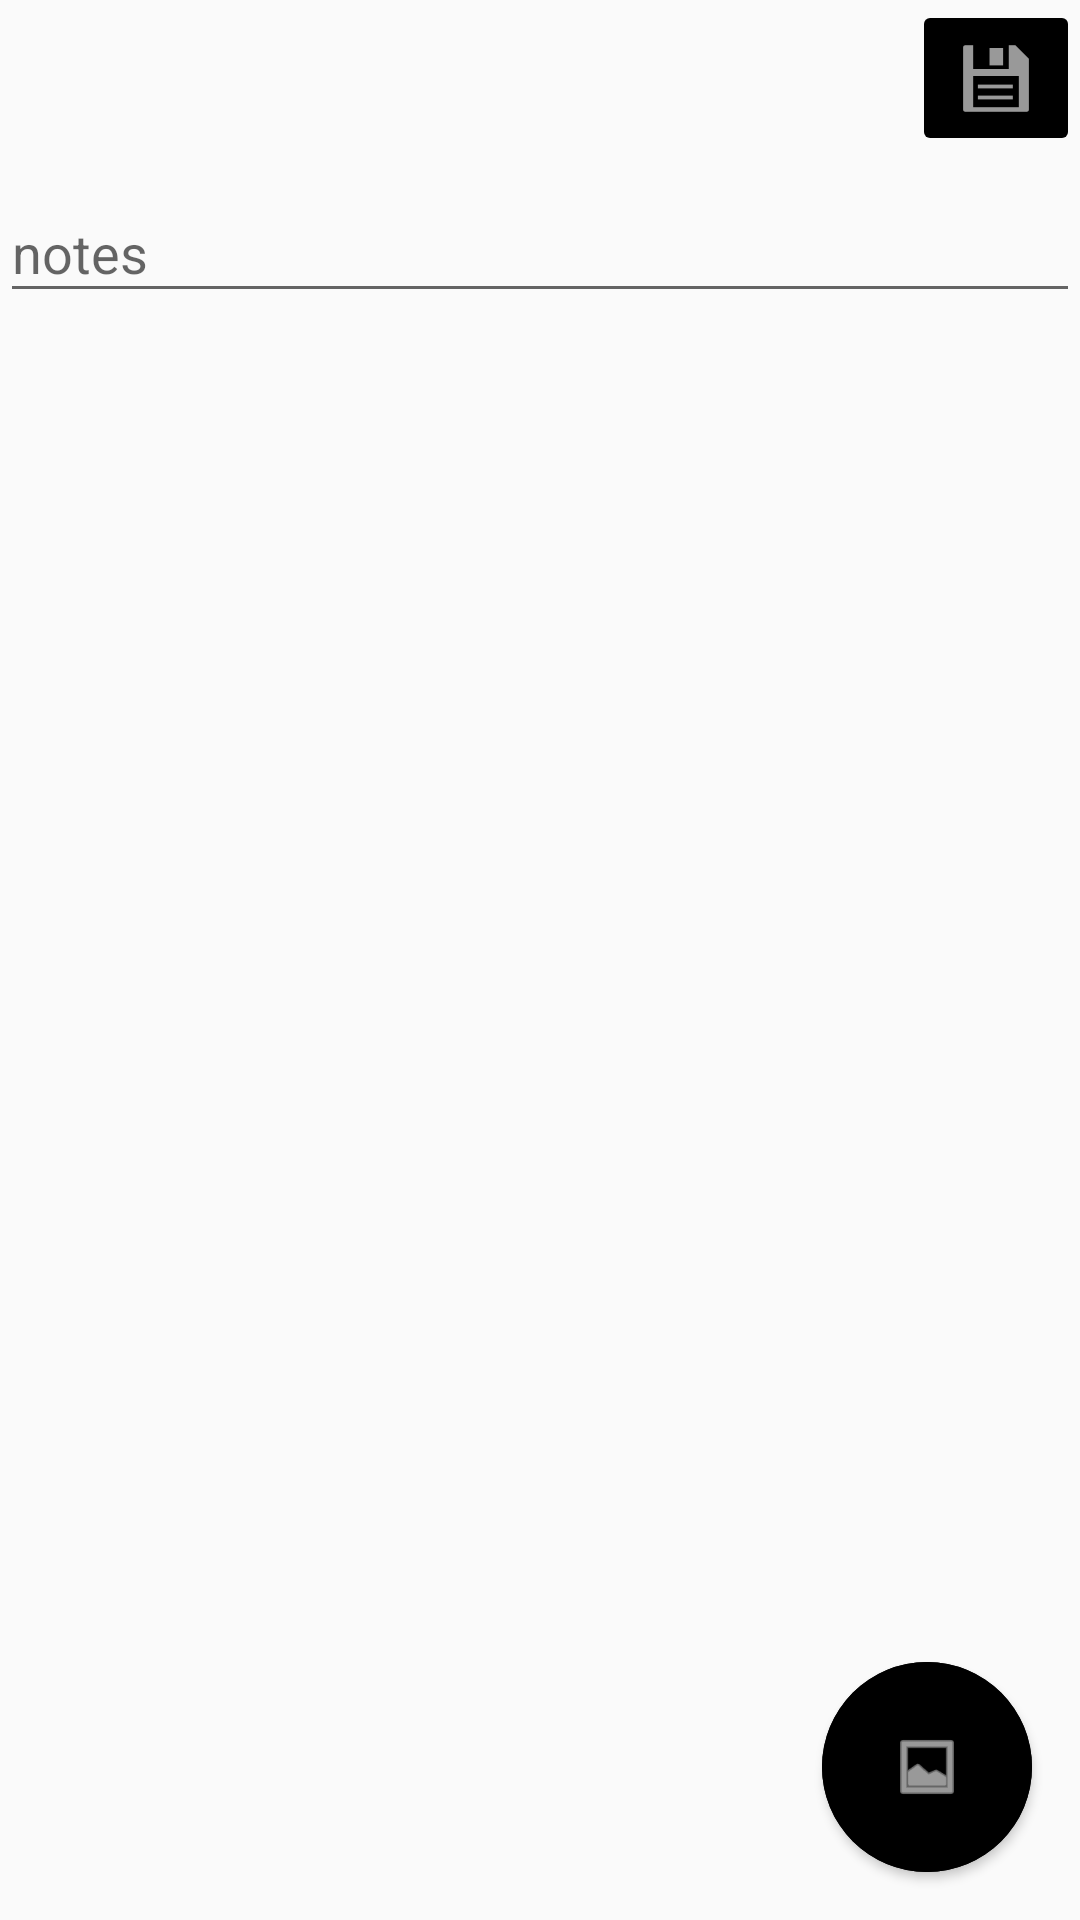

Where to tap for icons on this 1080px×1920px app screen, as point (x, y):
gallery: point (927, 1767)
save: point (996, 78)
